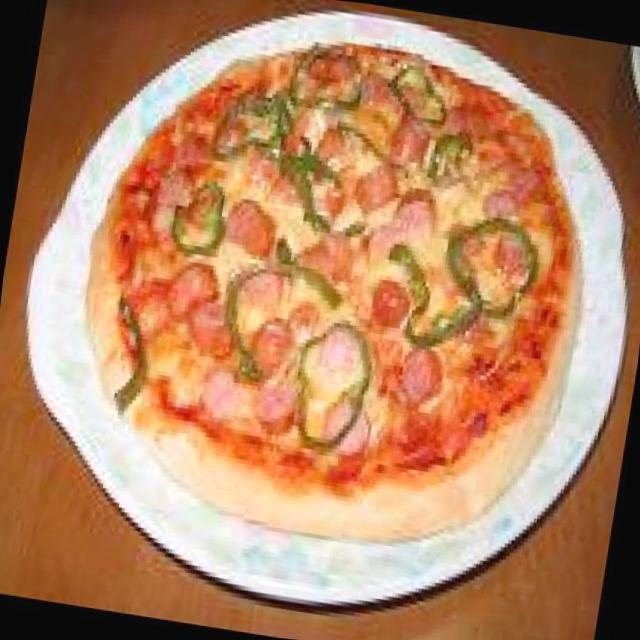Pizza: (49, 5, 622, 552)
